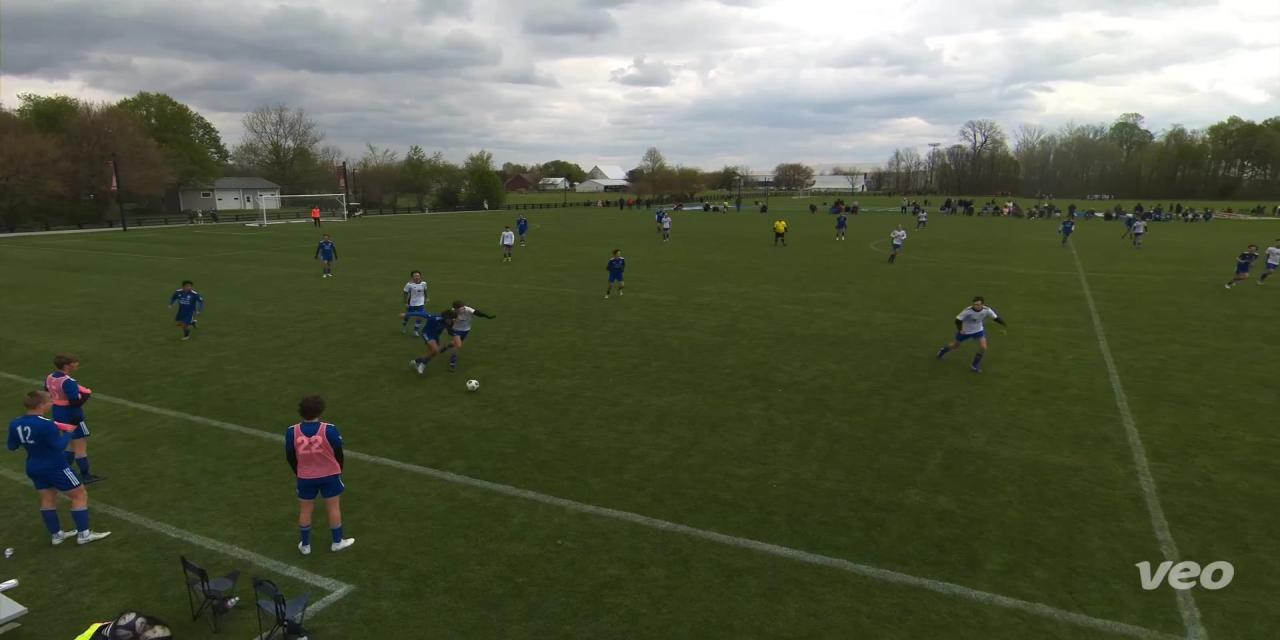goal: (237, 182, 353, 234)
sports ball: (461, 376, 487, 399)
